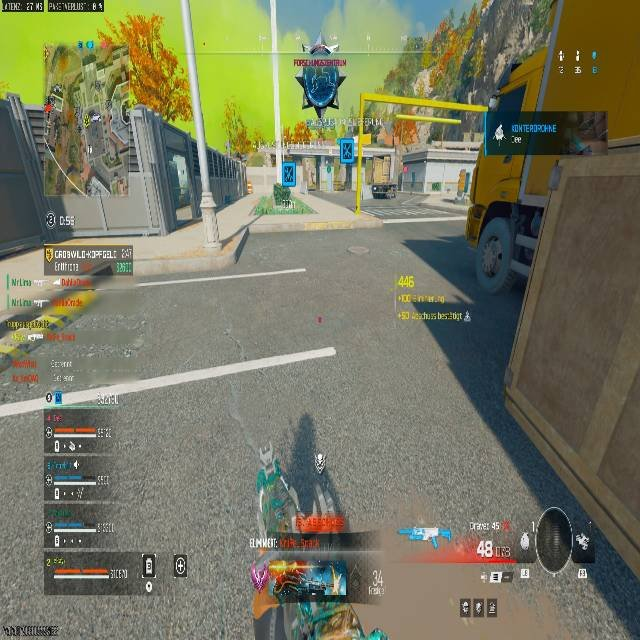player: (295, 41, 345, 122)
